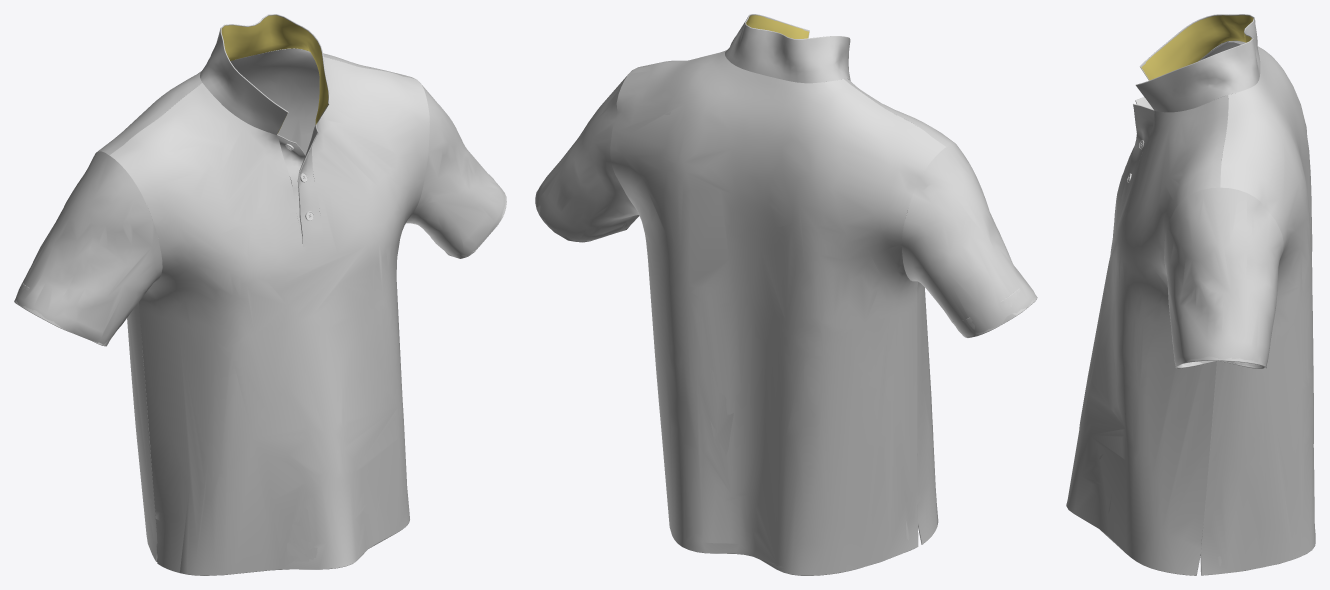
Rendered from poloshirt.fbx.
3 views of the same model, side by side, from view 1: azimuth 30°, elevation 25°; view 2: azimuth 150°, elevation 25°; view 3: azimuth 270°, elevation 25° (orthographic). The views are drawn at different scales.
Visible parts, largest first — view 1: poloshirt2.003; view 2: poloshirt2.003; view 3: poloshirt2.003.
Part boxes in pixels (left/top/right/bottom): poloshirt2.003: left=14, top=14, right=506, bottom=575; poloshirt2.003: left=535, top=14, right=1037, bottom=575; poloshirt2.003: left=1066, top=14, right=1315, bottom=575.
Bounding box in the file's own units: 699 × 694 × 318.
